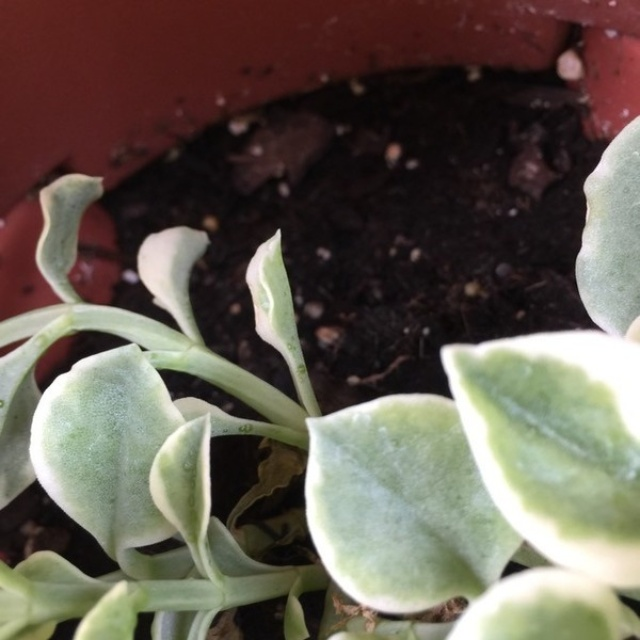obstacle: (44, 27, 620, 610)
